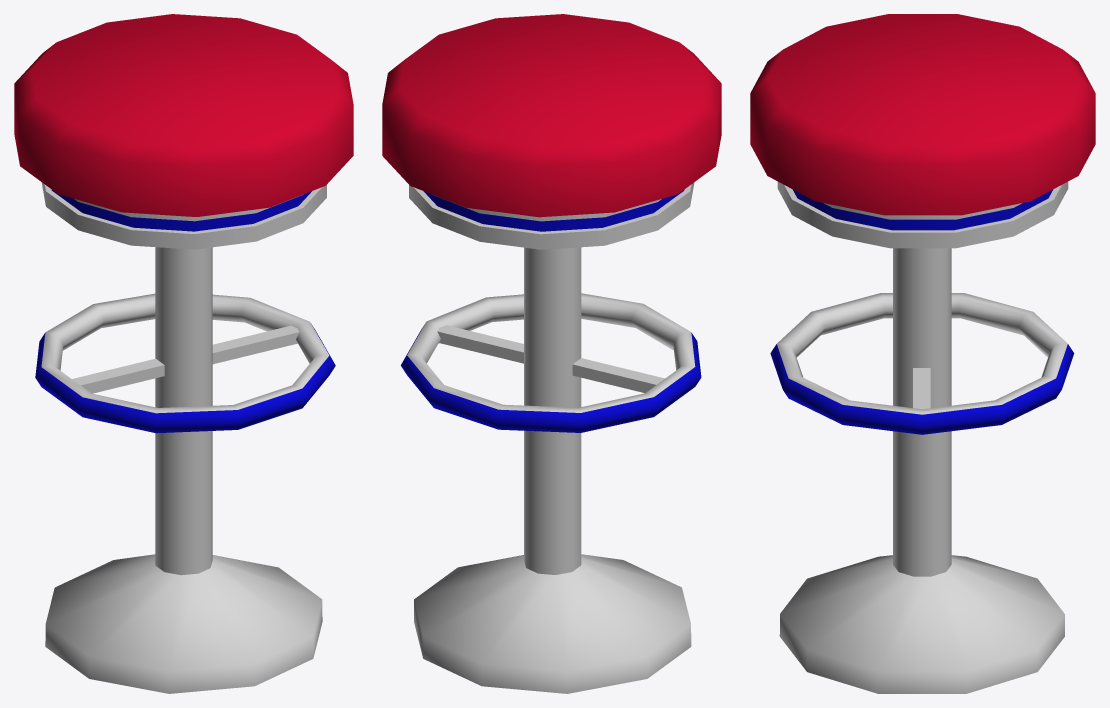
File: Chair.fbx
3 views of the same model, side by side, from view 1: azimuth 30°, elevation 25°; view 2: azimuth 150°, elevation 25°; view 3: azimuth 270°, elevation 25° (orthographic).
Visible parts, largest first — view 1: Chair; view 2: Chair; view 3: Chair.
Part boxes in pixels (x1,y1,x2,y2): Chair: (14,14,353,693); Chair: (382,14,721,693); Chair: (750,14,1095,693).
Bounding box in the file's own units: 0.4721 × 0.8643 × 0.4843.
